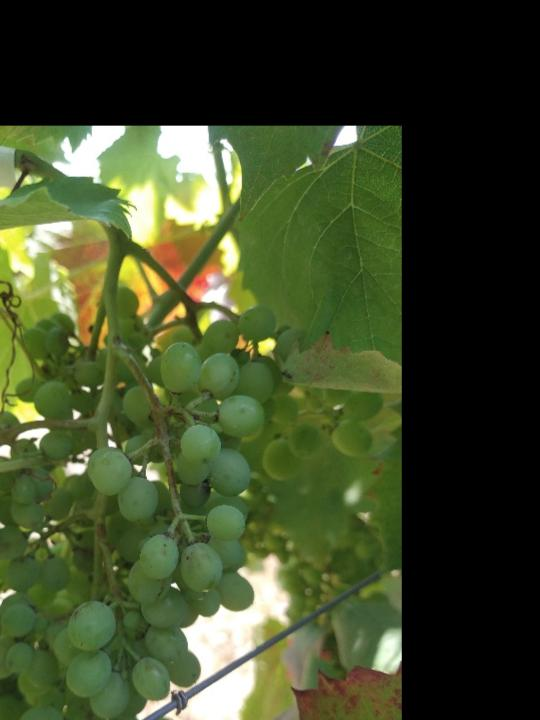grape: (0, 284, 393, 720)
